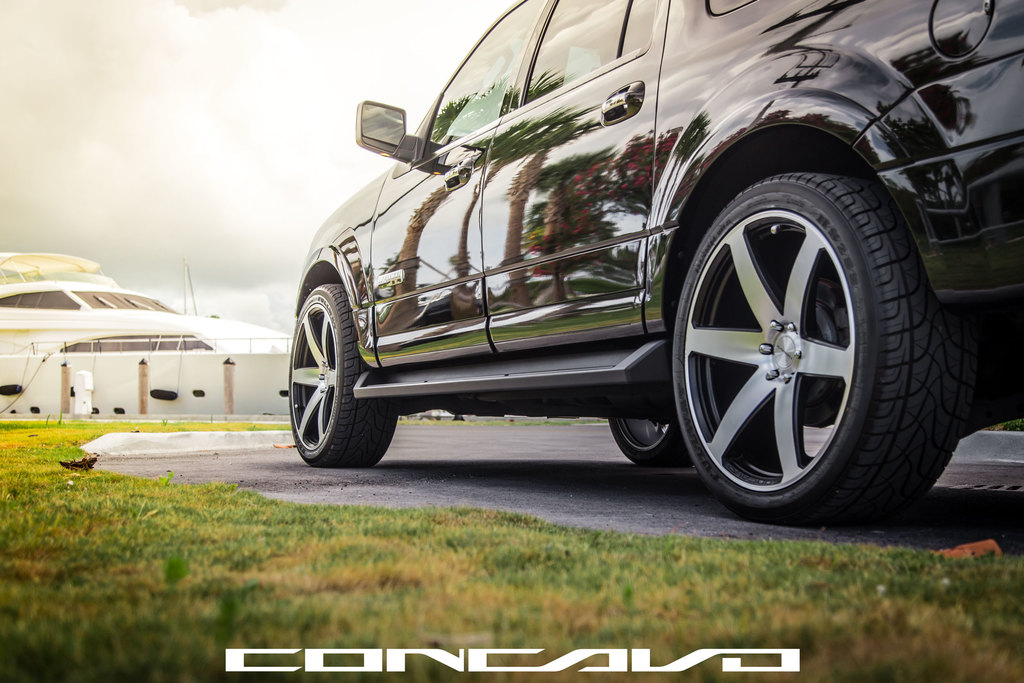Car: (279, 0, 1023, 522)
